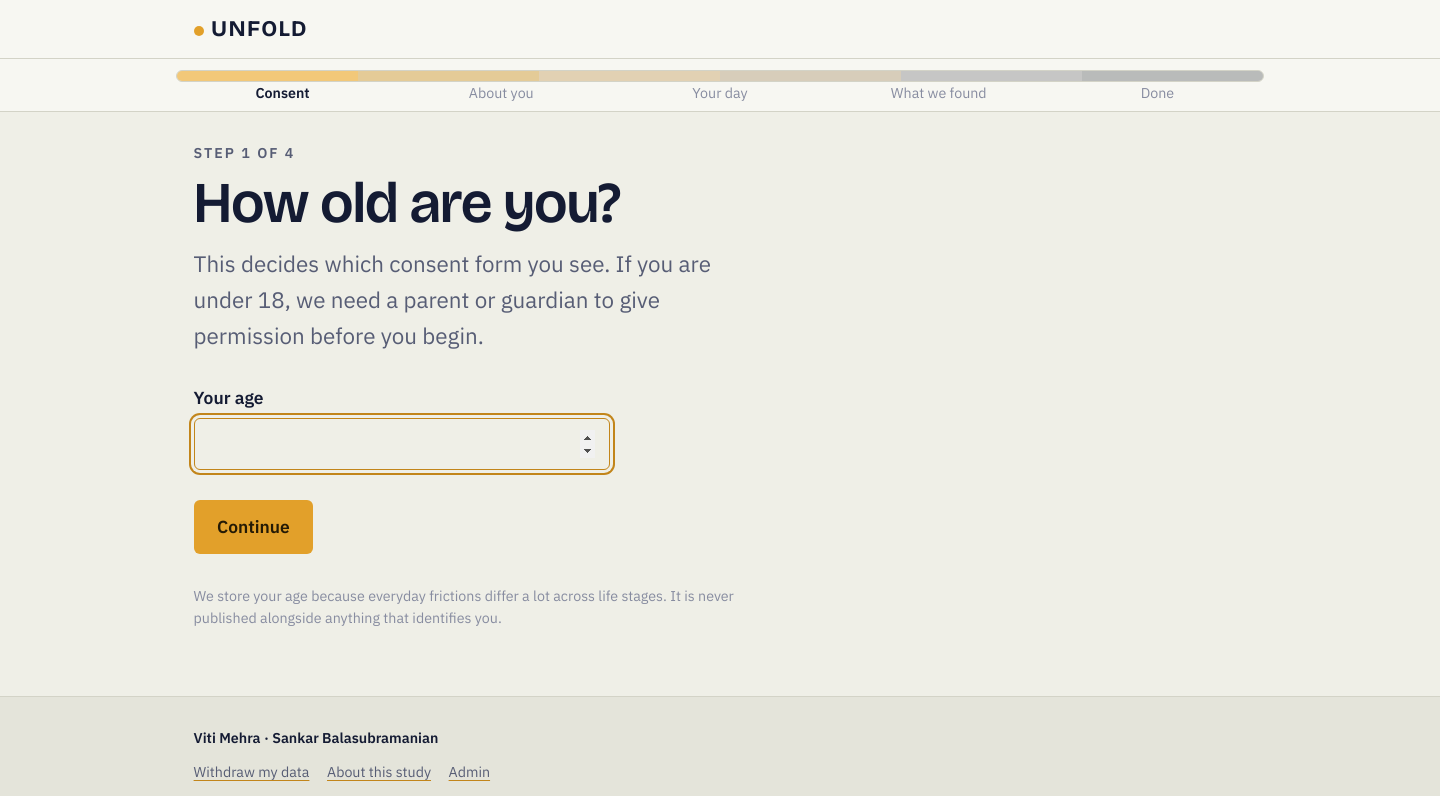
Test: the age gate explains the screen-out rather than just refusing
Type "12" into the number field labelled "Your age" at [402, 444], box [194,418,610,470]
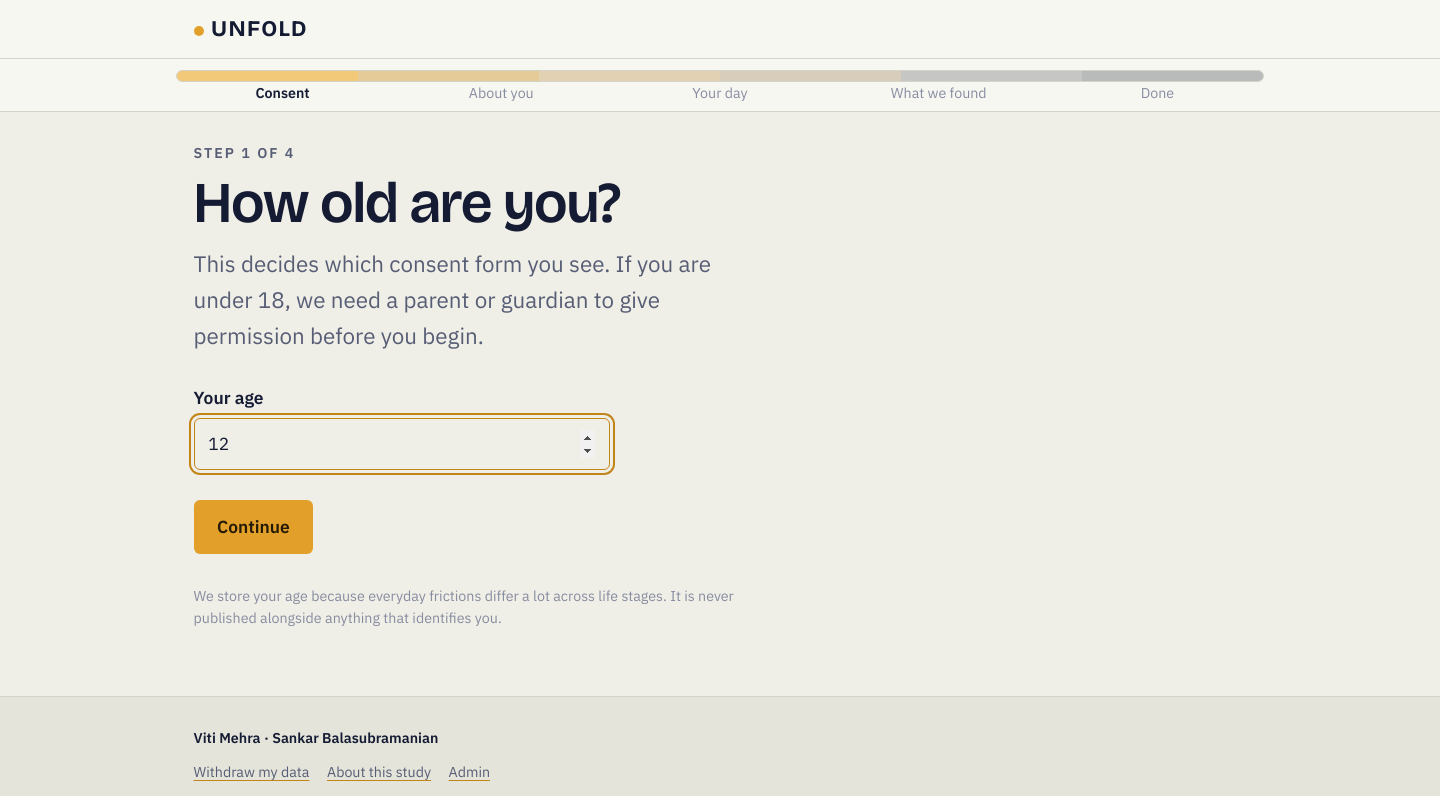
Submit the form, box [194,142,738,630]
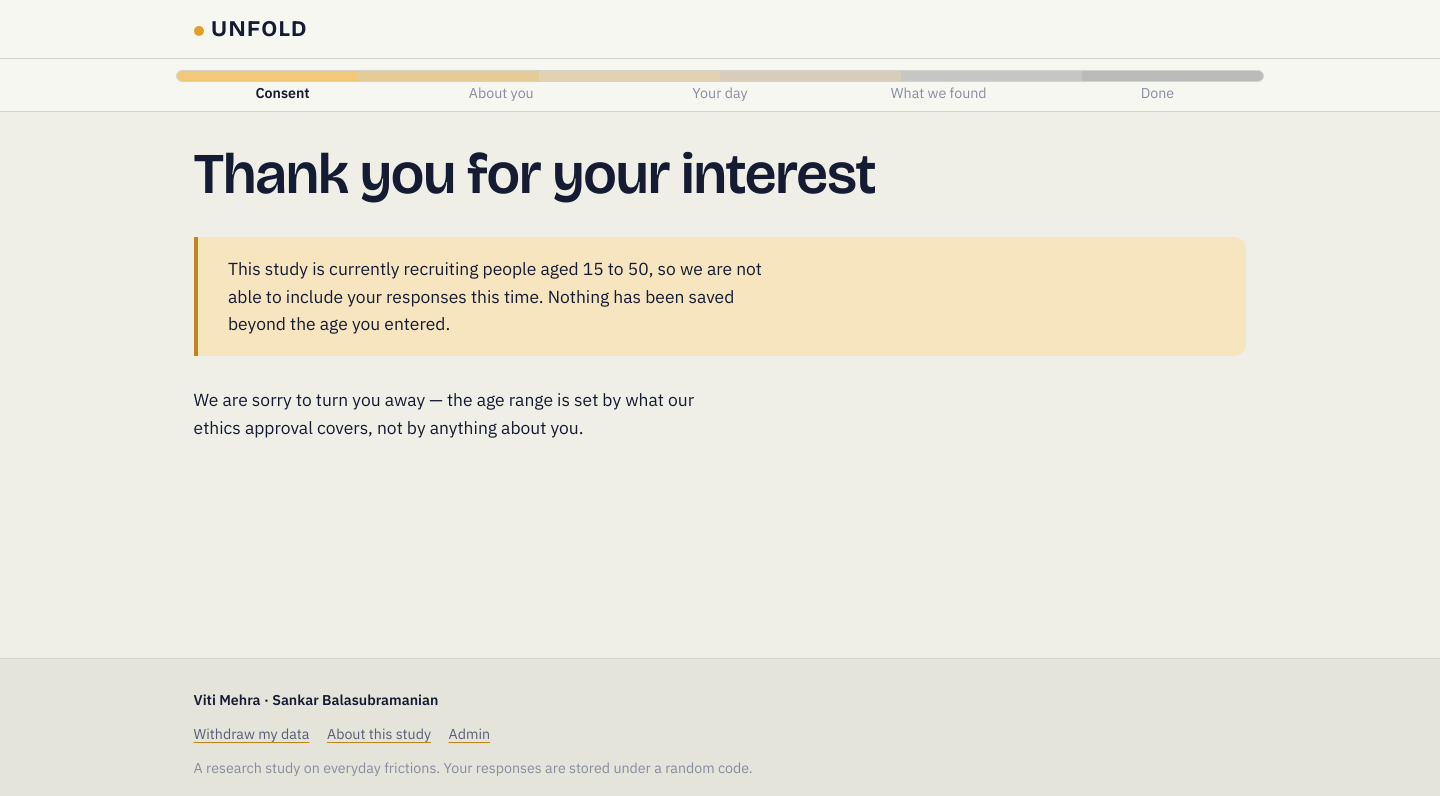
Now the text "recruiting people aged 15 to 50" is shown, box [228,255,772,338]
